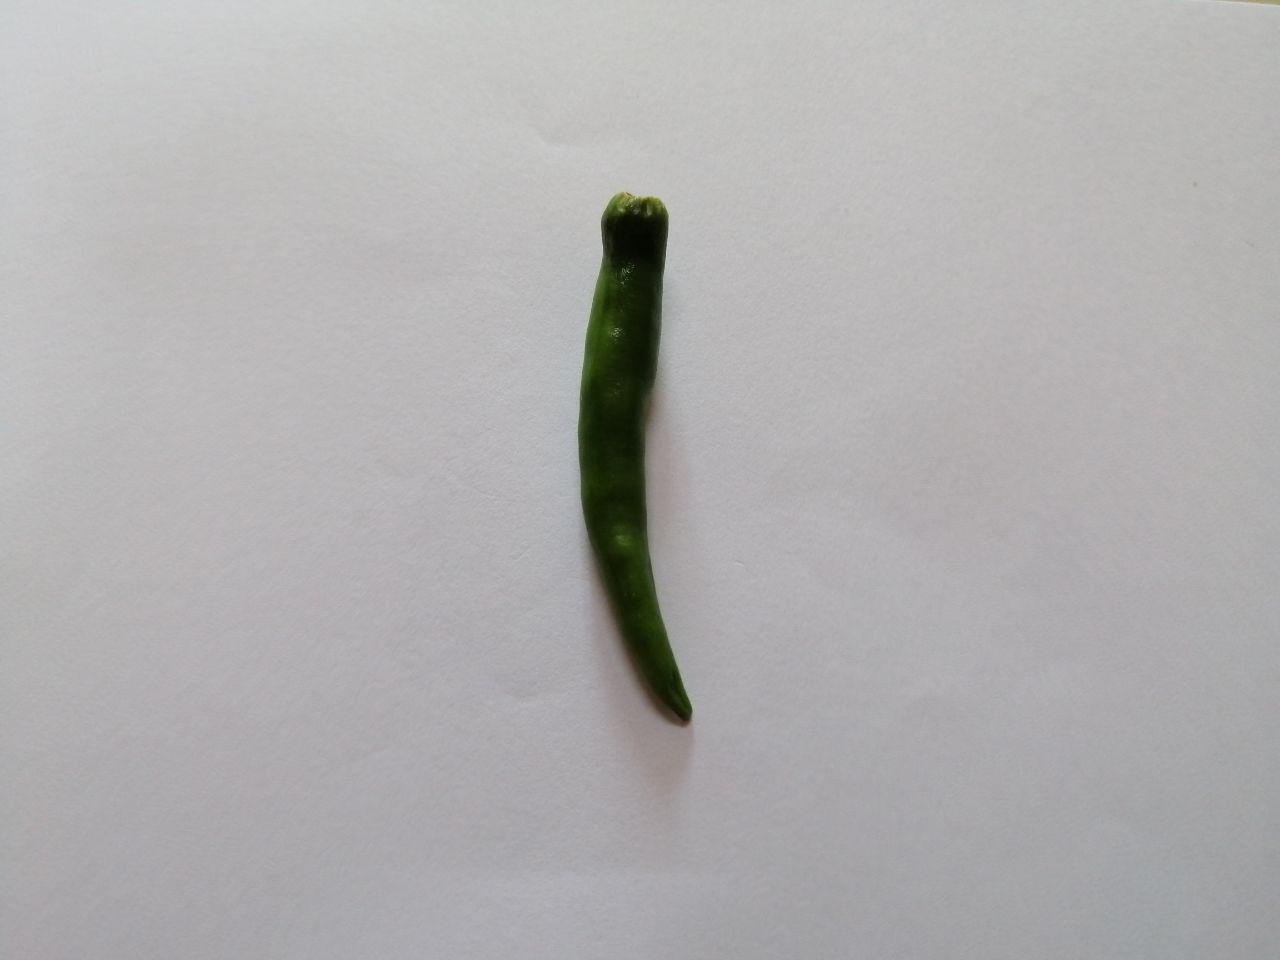lada hijau: (574, 168, 718, 753)
